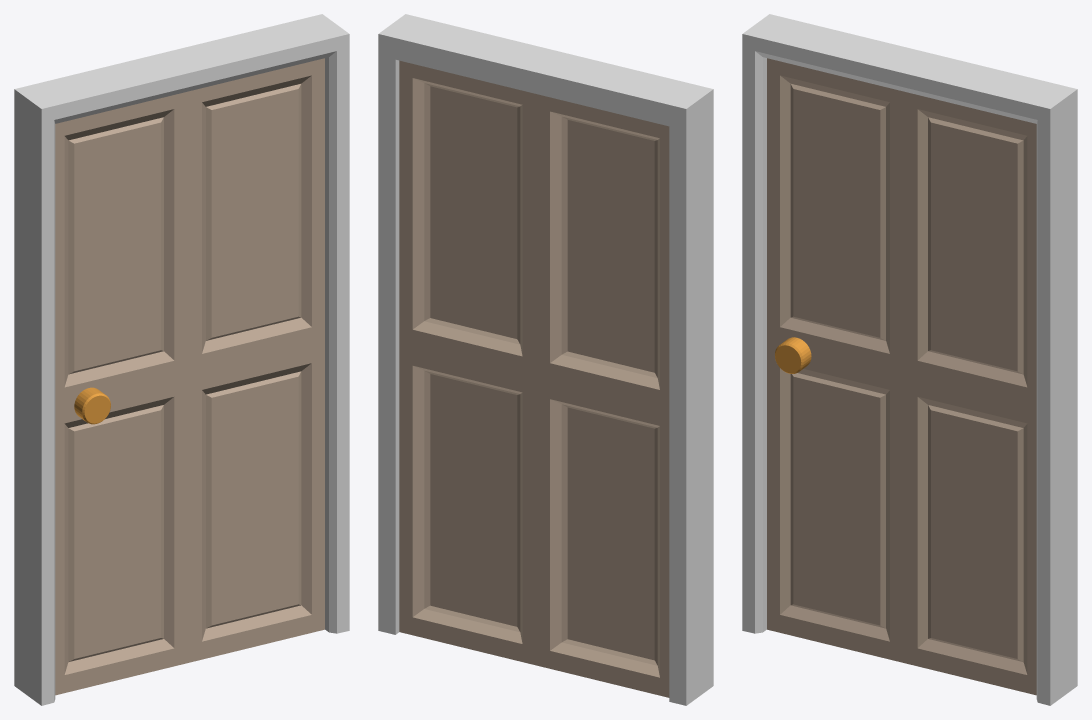
The model's file is door.fbx.
The picture shows the model from 3 angles, left to right: view 1: azimuth 30°, elevation 25°; view 2: azimuth 150°, elevation 25°; view 3: azimuth 330°, elevation 25°; orthographic projection.
Visible parts, largest first — view 1: Cube, Cube.001, Cylinder; view 2: Cube, Cube.001; view 3: Cube, Cube.001, Cylinder.
Boxes of the visible parts, x1=… form: Cube: x1=55, y1=58, x2=324, y2=695; Cube.001: x1=14, y1=14, x2=349, y2=705; Cylinder: x1=74, y1=387, x2=110, y2=424; Cube: x1=399, y1=60, x2=669, y2=697; Cube.001: x1=378, y1=14, x2=713, y2=705; Cube: x1=767, y1=58, x2=1036, y2=695; Cube.001: x1=742, y1=14, x2=1077, y2=705; Cylinder: x1=775, y1=337, x2=811, y2=373.
Bounding box in the file's own units: 448 × 830 × 81.42.
